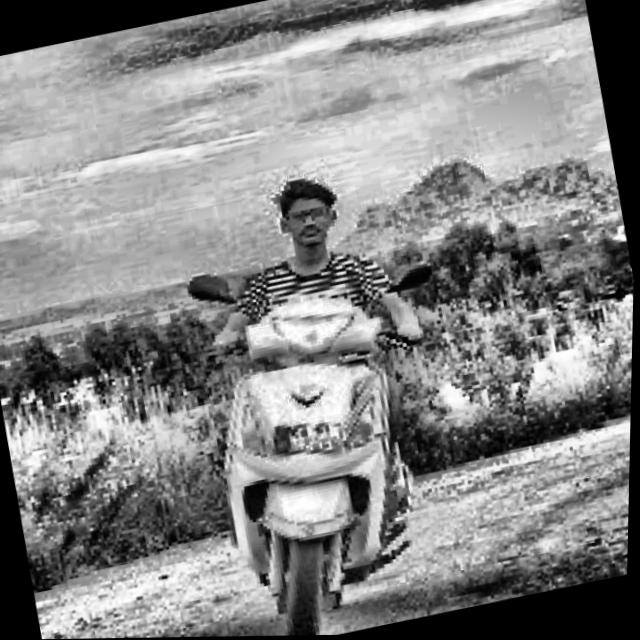motorcycle: (148, 221, 509, 638)
